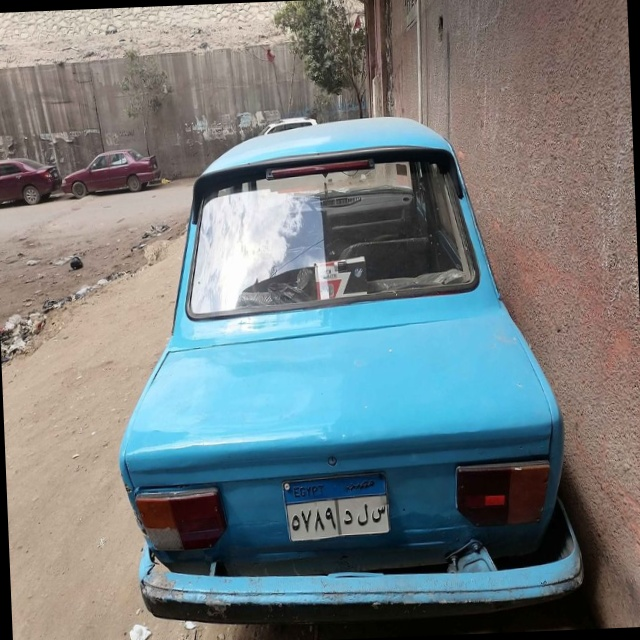License Plate: (281, 470, 394, 547)
